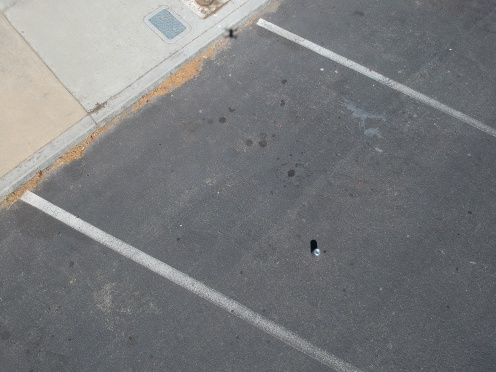can: (308, 245, 324, 259)
